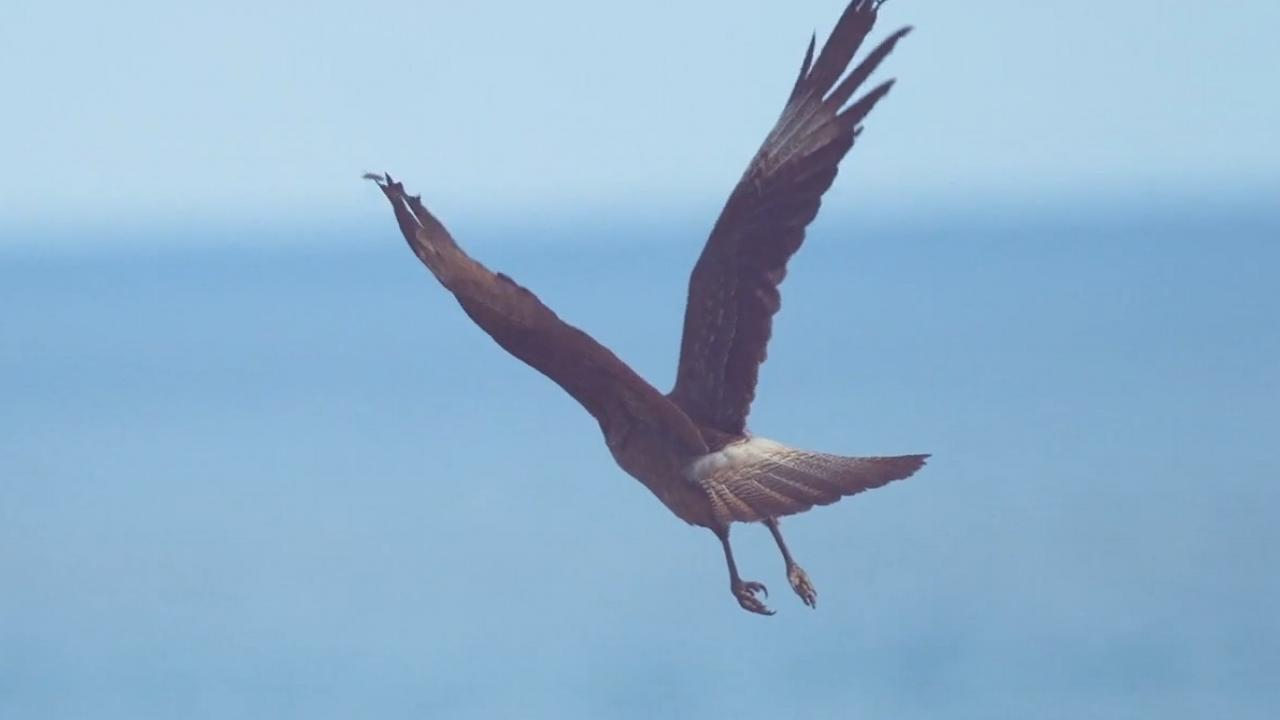Bird: (354, 0, 945, 629)
